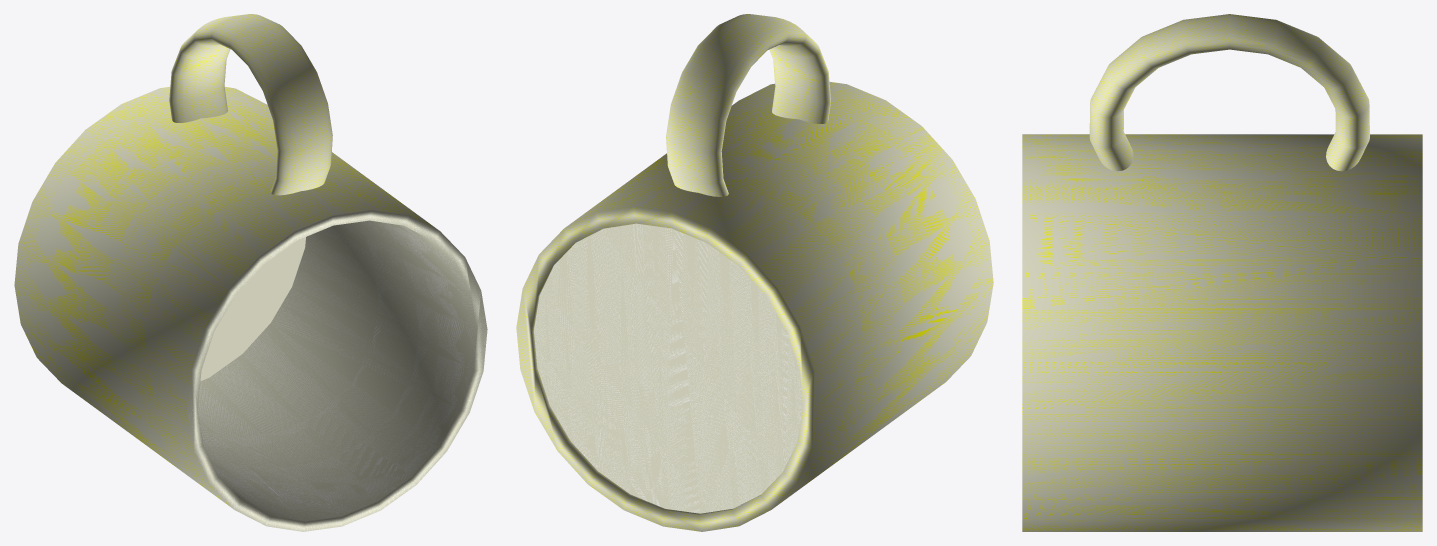
File: model_scale.obj
3 renders of one model, left to right at view 1: azimuth 30°, elevation 25°; view 2: azimuth 150°, elevation 25°; view 3: azimuth 270°, elevation 25°, orthographic. The views are drawn at different scales.
Parts seen in each view (by area): view 1: mesh1_mesh1-geometry, mesh2_mesh2-geometry; view 2: mesh1_mesh1-geometry, mesh2_mesh2-geometry; view 3: mesh1_mesh1-geometry, mesh2_mesh2-geometry.
Part boxes in pixels (x1=…): mesh1_mesh1-geometry: x1=14, y1=87, x2=487, y2=531; mesh2_mesh2-geometry: x1=169, y1=14, x2=332, y2=195; mesh1_mesh1-geometry: x1=516, y1=82, x2=993, y2=531; mesh2_mesh2-geometry: x1=666, y1=14, x2=830, y2=196; mesh1_mesh1-geometry: x1=1022, y1=134, x2=1422, y2=531; mesh2_mesh2-geometry: x1=1089, y1=14, x2=1369, y2=171.
Bounding box in the file's own units: 0.0844 × 0.1166 × 0.0845.
